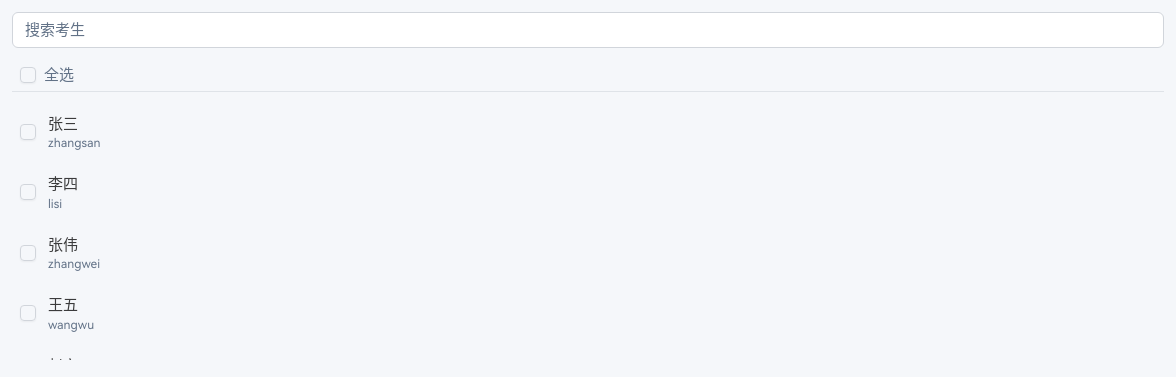
Test: EnrollmentPicker › filters candidates by name when searching
Type "张" into the field with placeholder "搜索考生" at [588, 30], box [12,12,1164,48]
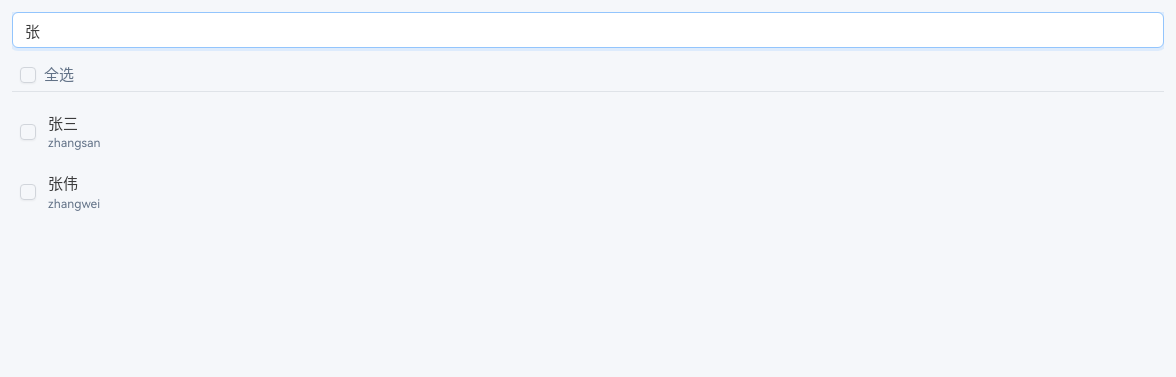
Expected: the text "张三" is shown, [48,112,78,132]
Now the text "李四" is gone
Now the text "王五" is gone
